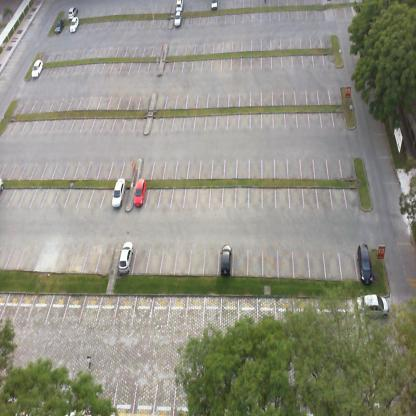car: (354, 242, 372, 285), (362, 291, 389, 319), (118, 241, 134, 274), (133, 177, 147, 208), (112, 178, 126, 209), (220, 244, 232, 275), (30, 58, 43, 80), (53, 18, 64, 36), (173, 10, 184, 27), (69, 16, 79, 34), (68, 5, 78, 20), (174, 0, 184, 11), (209, 0, 218, 12)
